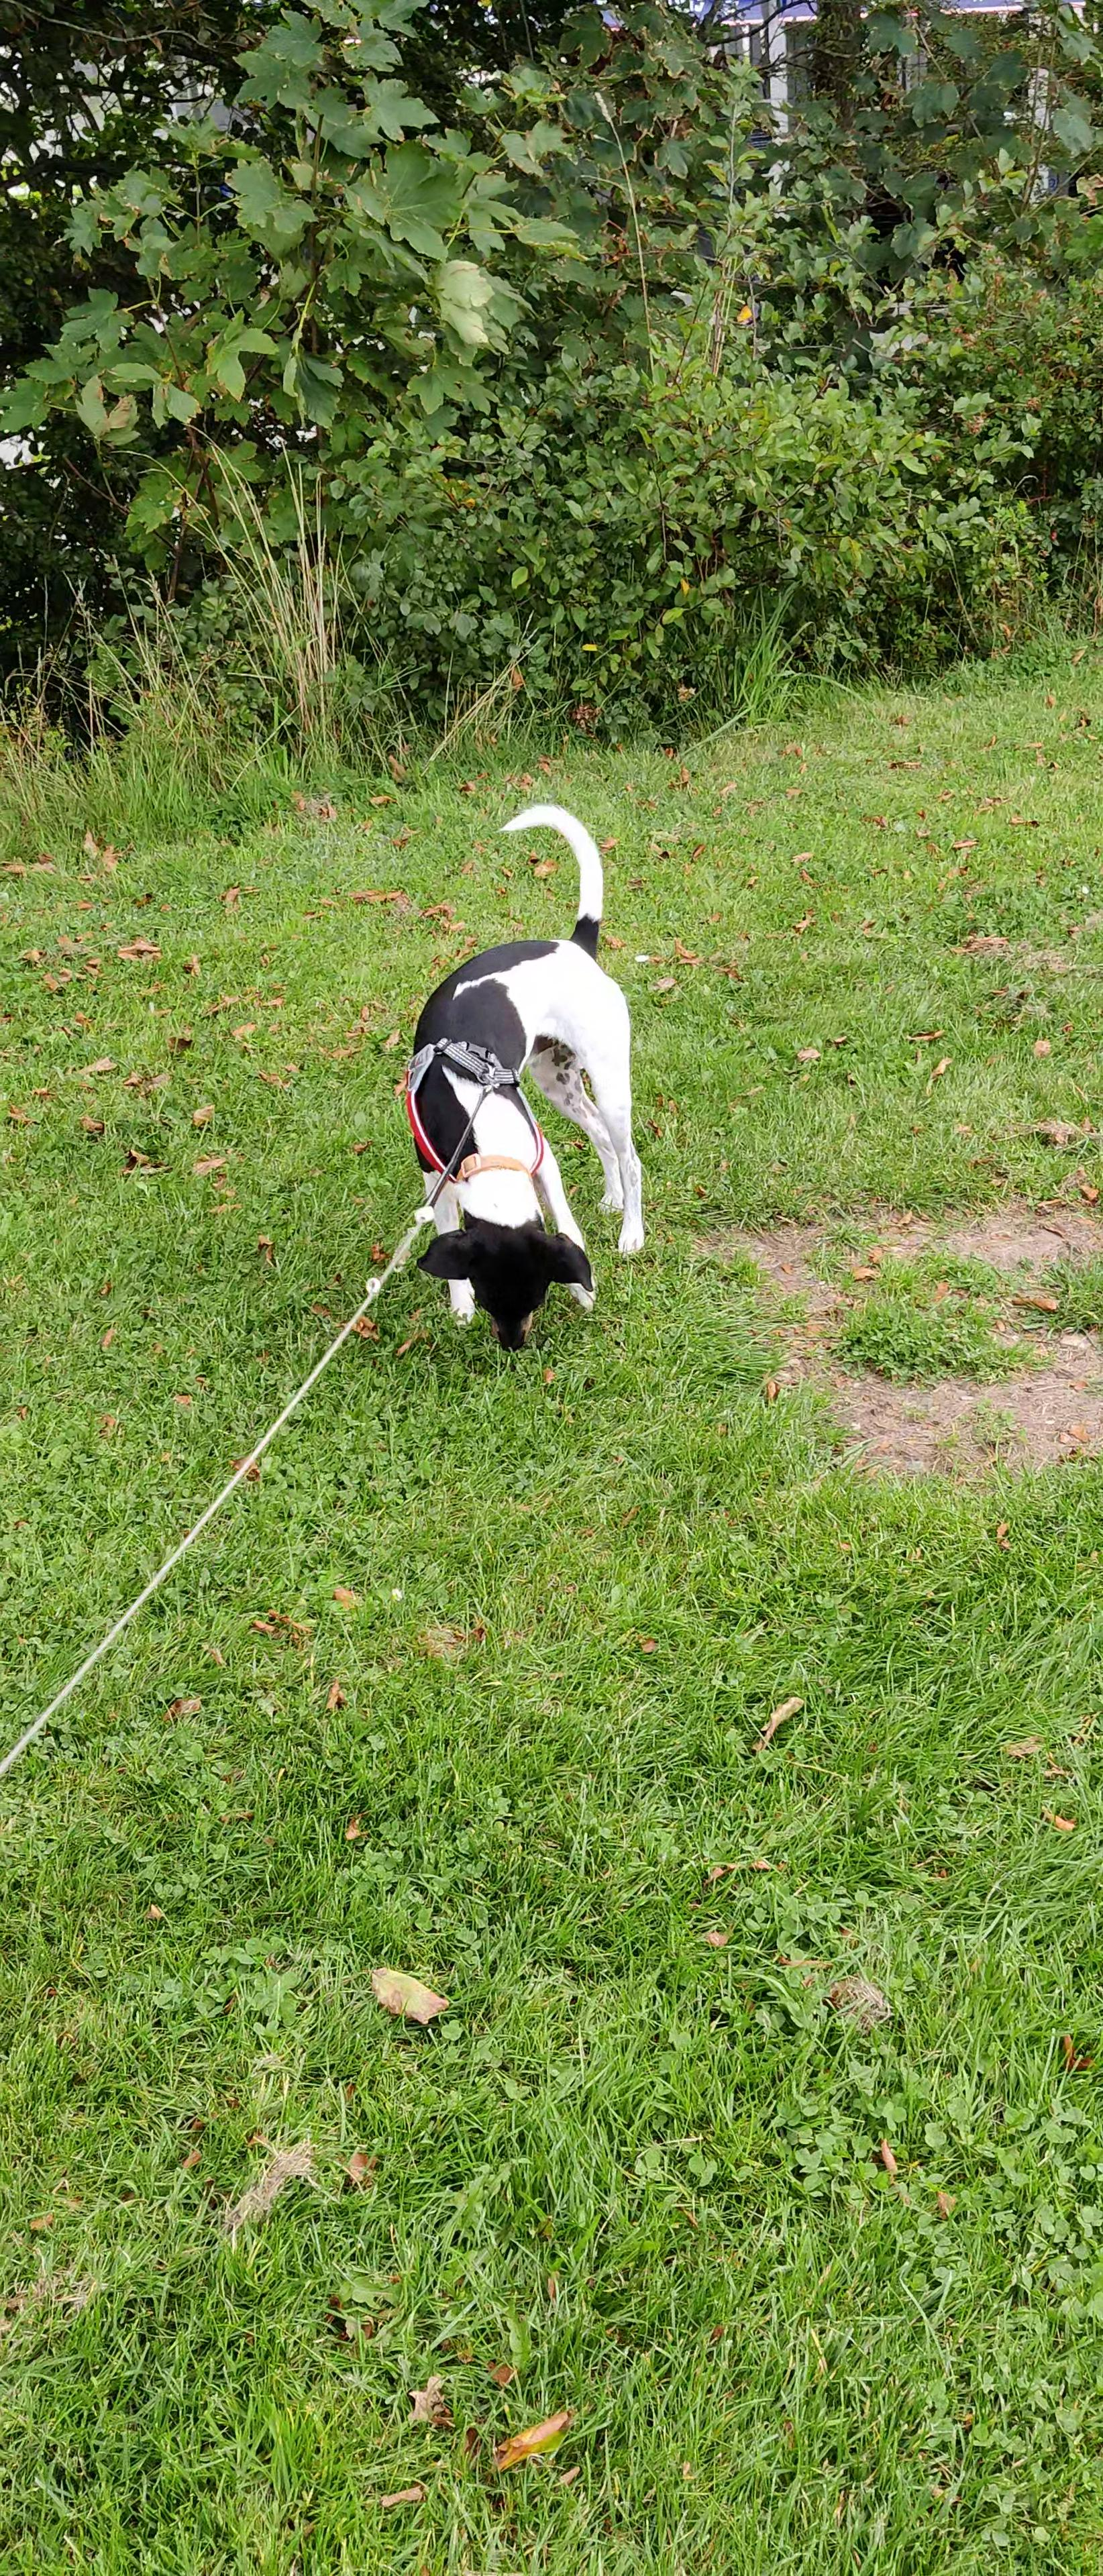Dog: (391, 793, 654, 1355)
